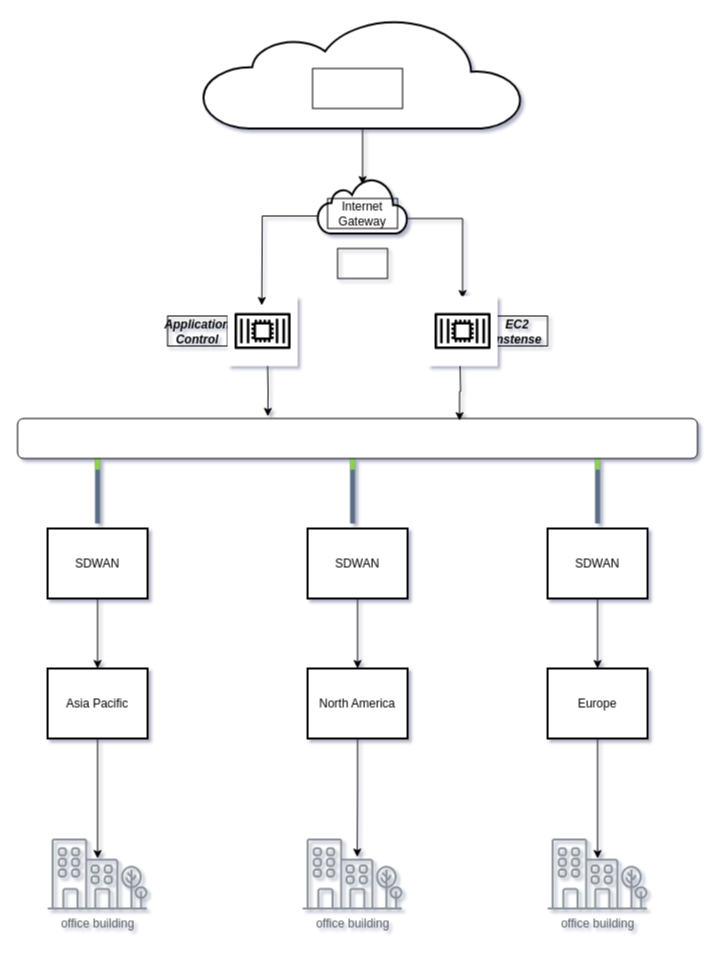
Some shapes in this 721 by 953 pixel diagram are drawn without their labels. The box of each missing label's shape, as (x1, y1, x2, y2) in pixels:
AWS/Azure Cloud: (336, 248, 388, 278)
Internet: (312, 68, 402, 108)
Transit Gateway: (16, 418, 698, 458)
